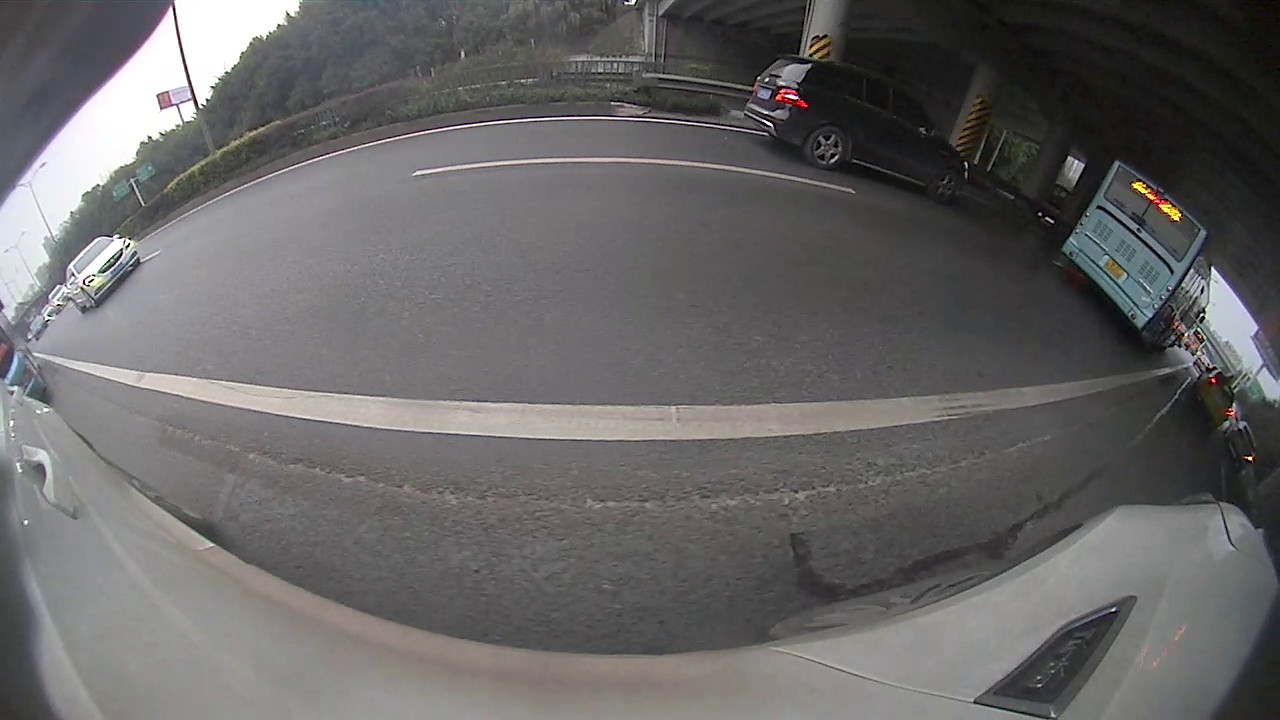bus: (1061, 160, 1209, 350)
car: (746, 53, 968, 203), (63, 236, 140, 313), (1196, 365, 1235, 429), (1225, 423, 1255, 466)
front: (928, 167, 962, 206), (81, 288, 102, 311)
rear: (804, 125, 851, 173)
